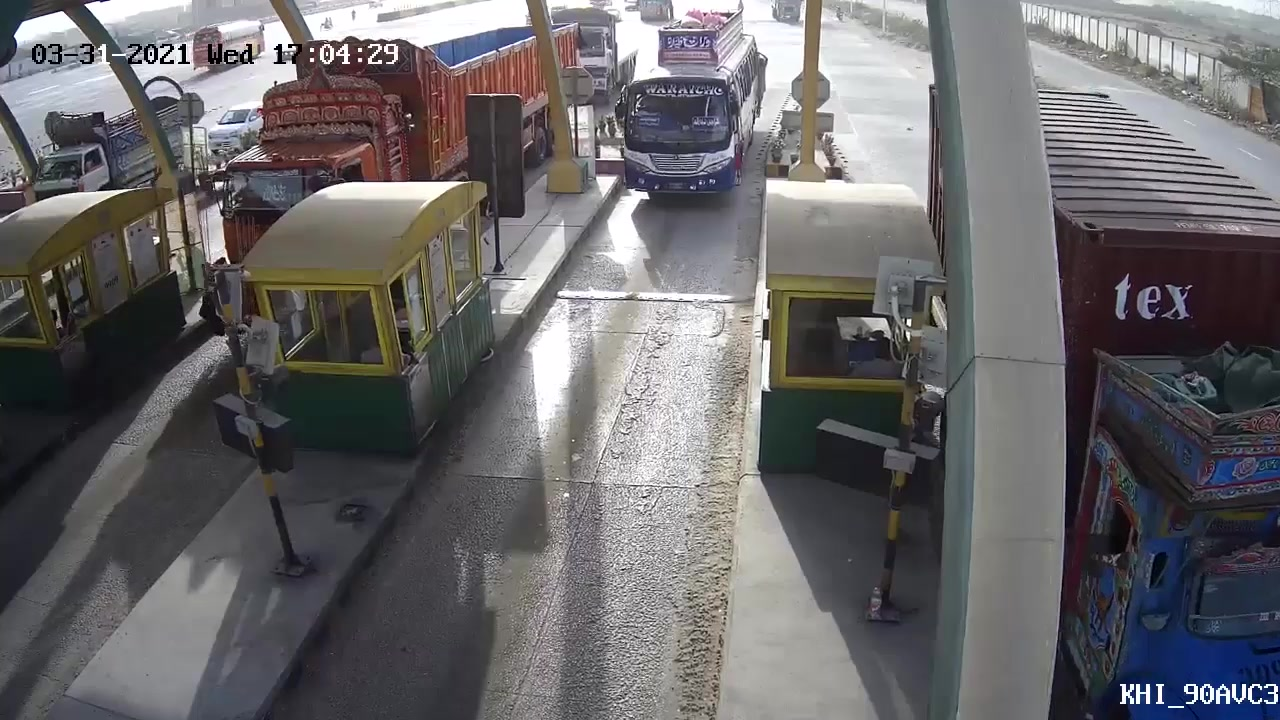F4: (604, 1, 768, 210)
